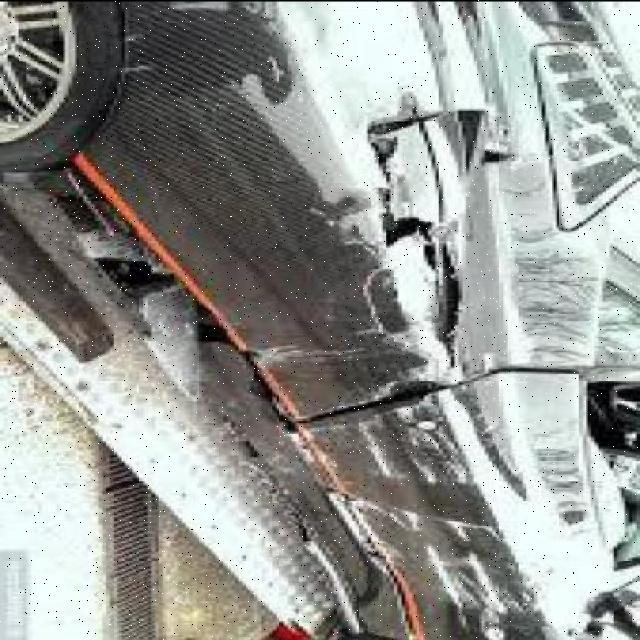damage: (201, 83, 616, 634)
